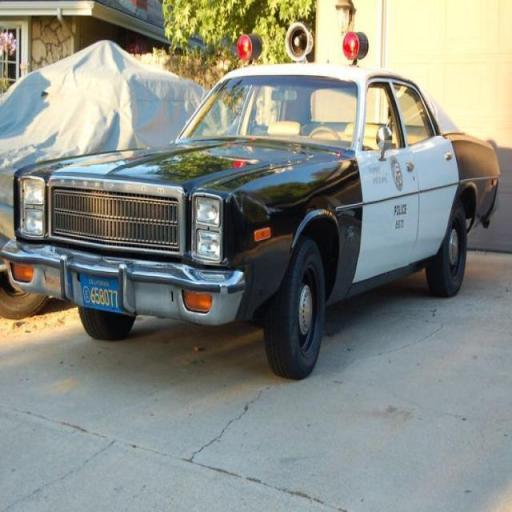Ambulance: (9, 26, 502, 386)
